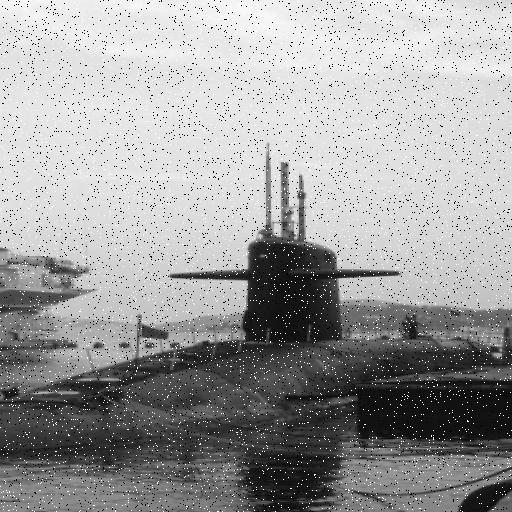submarine: (1, 143, 511, 455)
